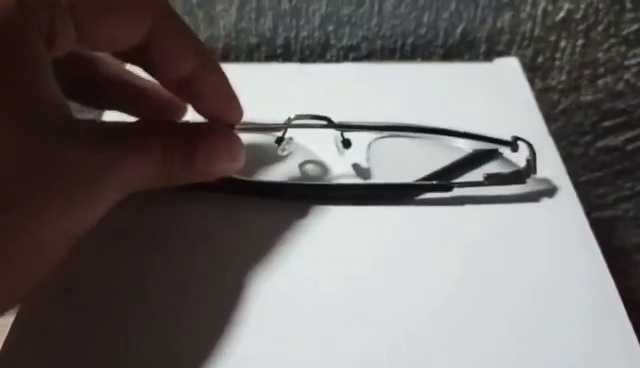glasses: (131, 117, 558, 206)
hand: (1, 1, 241, 323)
